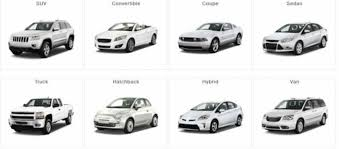car: (11, 93, 77, 134), (93, 95, 160, 134), (9, 18, 76, 56), (263, 95, 329, 133), (265, 19, 326, 58), (179, 19, 243, 54), (179, 99, 246, 131), (95, 24, 156, 55)
